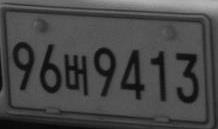1: (148, 50, 172, 102)
3: (175, 51, 200, 103)
4: (119, 48, 145, 99)
6: (39, 43, 62, 93)
9: (11, 40, 35, 91), (92, 46, 116, 97)
버: (63, 53, 89, 96)
